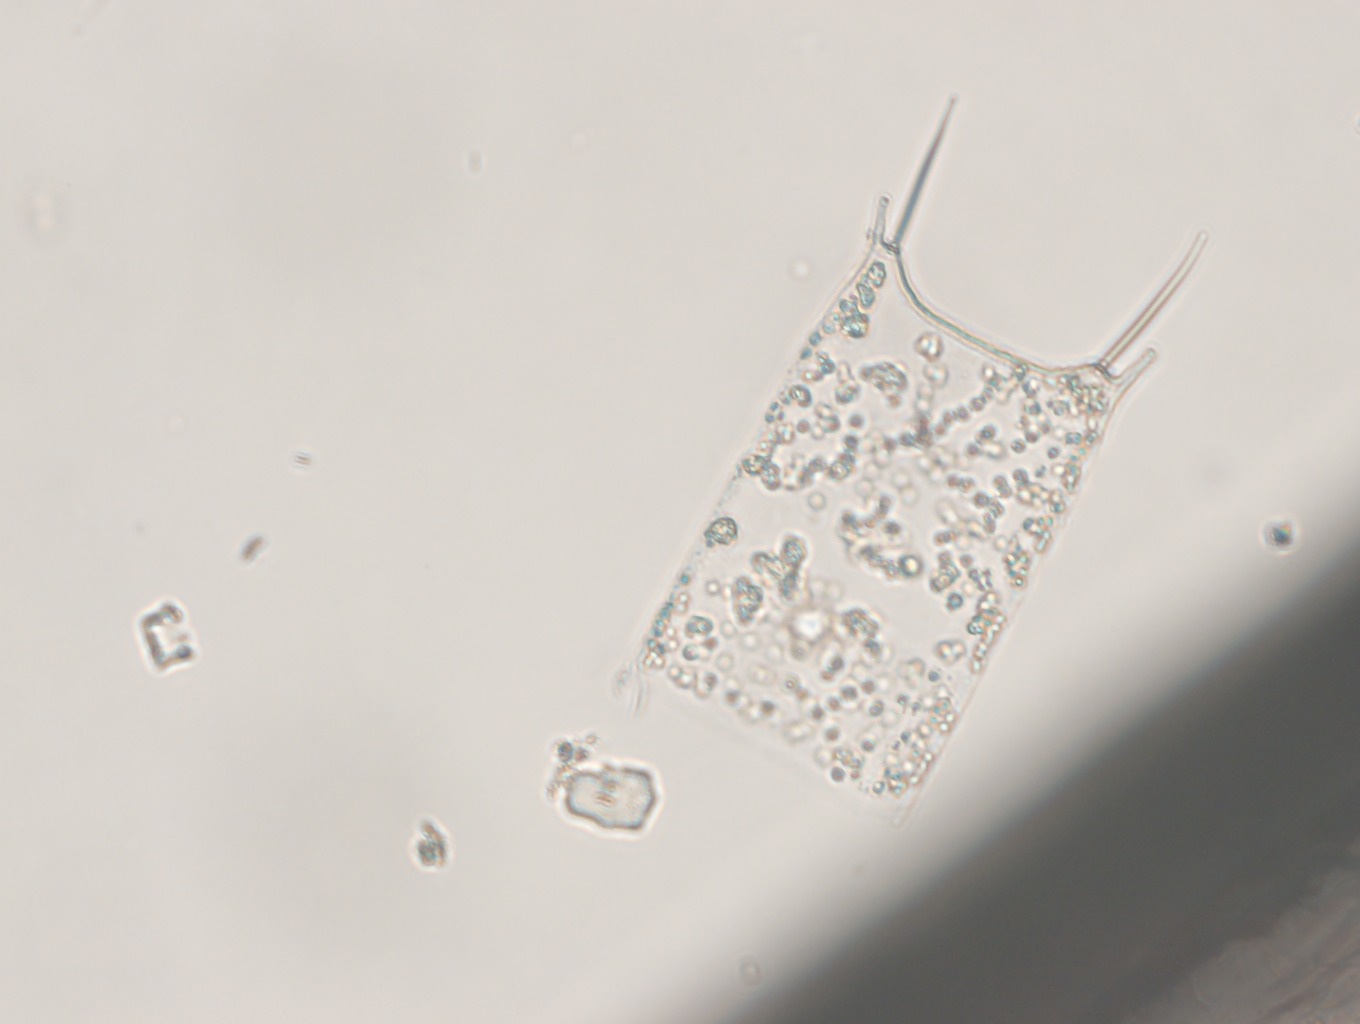biddulphia: (613, 87, 1225, 830)
